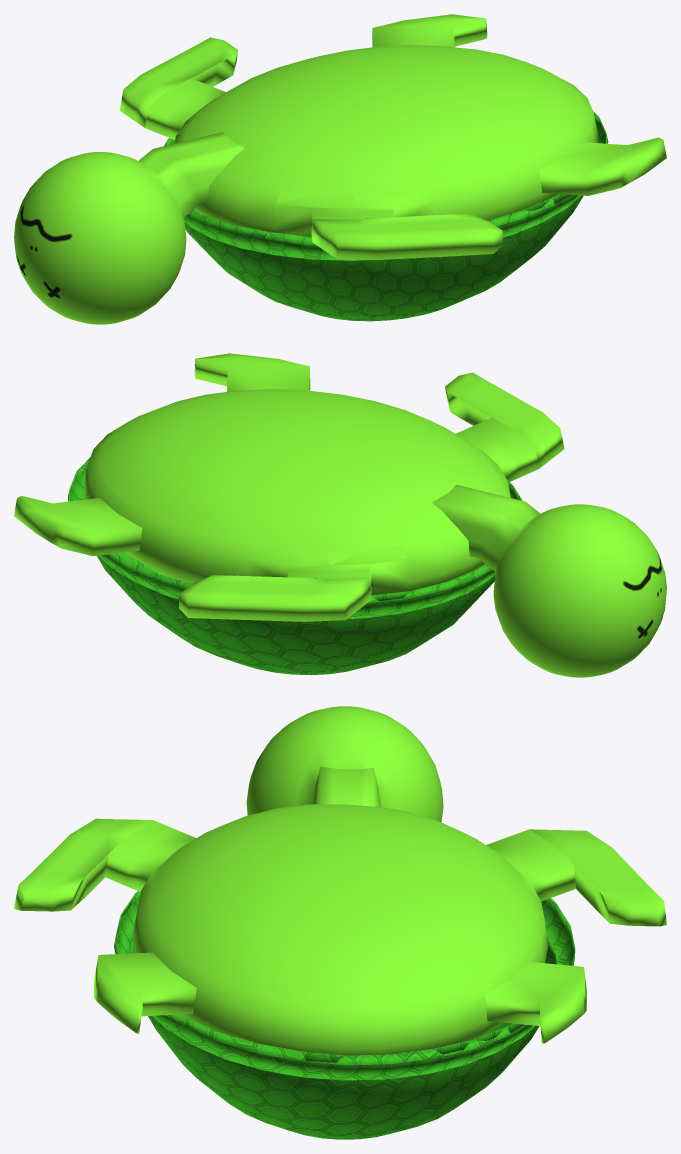
The model's file is dead sea turtle.glb.
3 views of the same model, one above another, from view 1: azimuth 30°, elevation 25°; view 2: azimuth 150°, elevation 25°; view 3: azimuth 270°, elevation 25° (orthographic). The views are drawn at different scales.
Visible parts, largest first — view 1: body, face, turtleshell; view 2: body, face, turtleshell; view 3: body, turtleshell, face.
Boxes of the visible parts, <box> form: body: <box>120,14,666,259</box>; face: <box>14,132,244,324</box>; turtleshell: <box>164,111,608,321</box>; body: <box>14,353,564,621</box>; face: <box>432,484,666,677</box>; turtleshell: <box>68,458,522,674</box>; body: <box>14,804,666,1055</box>; turtleshell: <box>114,891,575,1139</box>; face: <box>246,706,443,821</box>.
Bounding box in the file's own units: 4.5 × 1.71 × 3.98.
3 materials, 3 textured.
